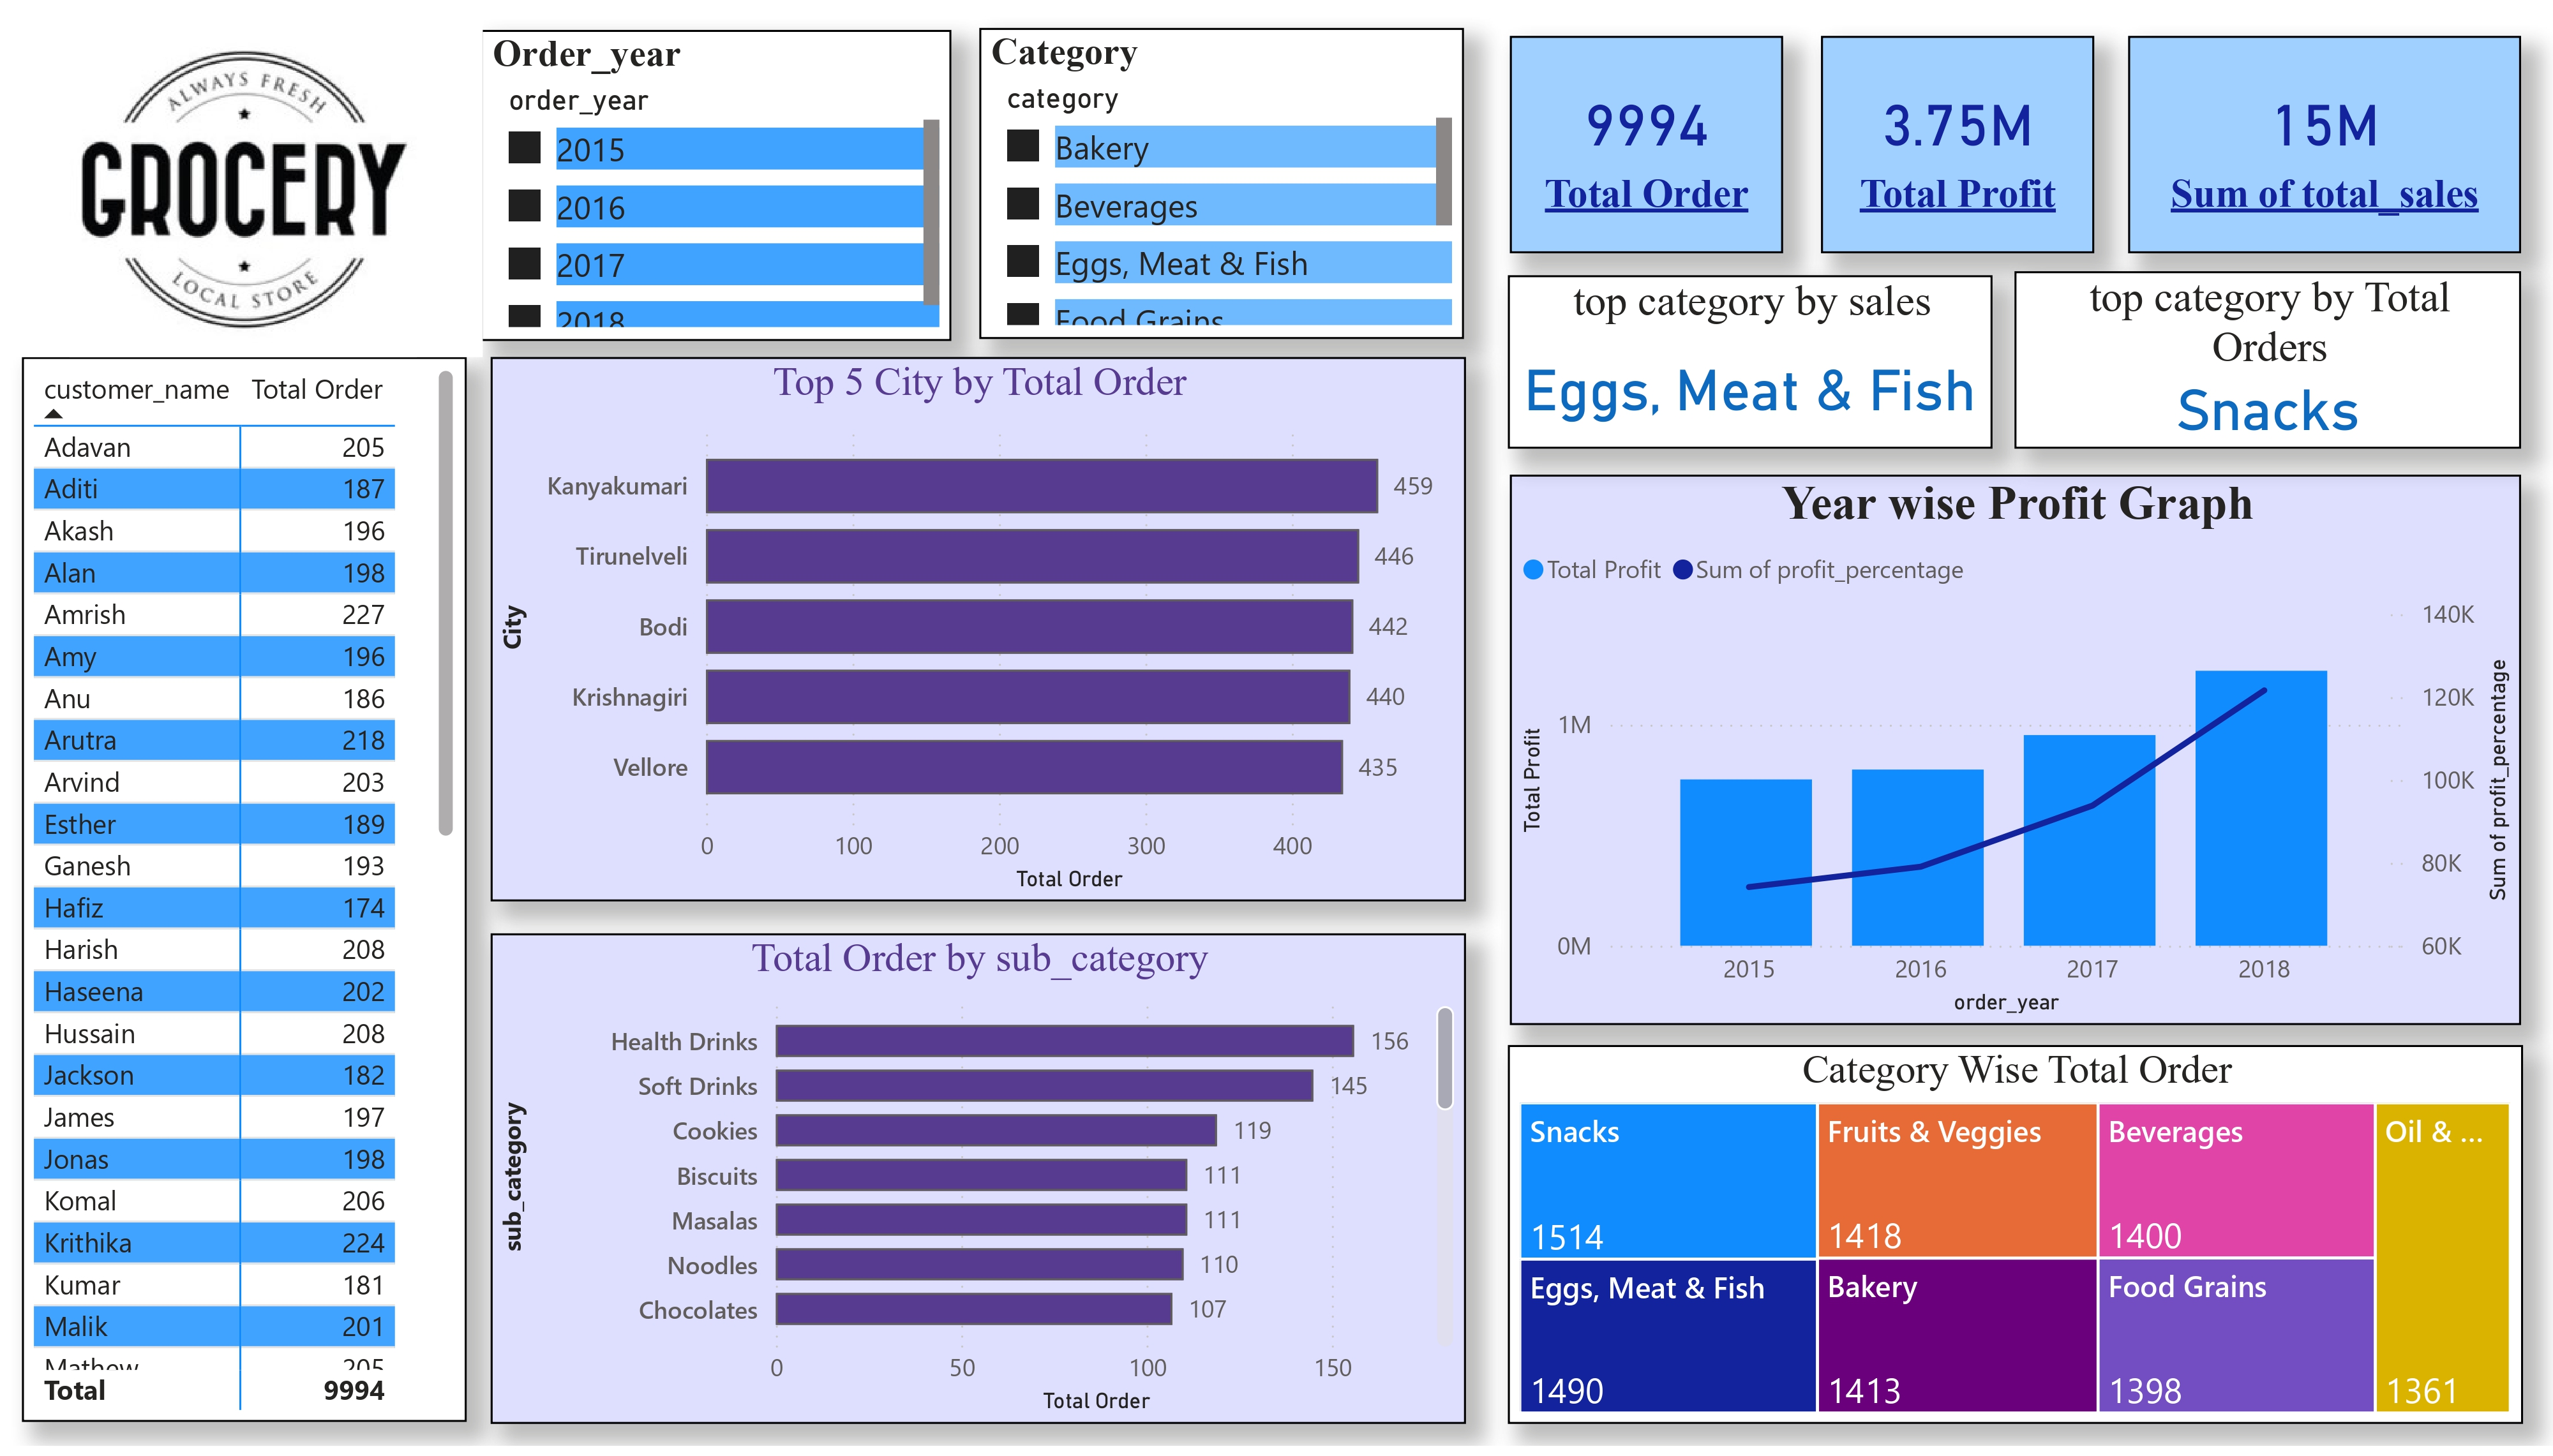

The dashboard page shown, as its layout file describes it:
{"tool":"powerbi","page":{"name":"Page 1","canvas":[1280,720],"ordinal":0},"visuals":[{"type":"card","fields":{"Values":["Measure.Total Profit"]},"box":[912.9,12.9,137.1,108.6],"z":0},{"type":"card","fields":{"Values":["Measure.Total Order"]},"box":[757.1,12.9,137.1,108.6],"z":1000},{"type":"lineClusteredColumnComboChart","title":"Year wise Profit Graph ","fields":{"Category":["OrderDetails Dim.order_year","OrderDetails Dim.order_month","OrderDetails Dim.order_day"],"Y":["Measure.Total Profit"],"Y2":["Sum(Sales_Fact_Dim.profit_percentage)"]},"box":[757.1,232.9,507.1,275.7],"z":2000},{"type":"card","fields":{"Values":["Sum(Sales_Fact_Dim.total_sales)"]},"box":[1067.1,12.9,197.1,108.6],"z":3000},{"type":"pivotTable","fields":{"Rows":["CustomerDetails Dim.customer_name"],"Values":["Measure.Total Order"]},"box":[11.4,174.3,222.9,534.3],"z":4000},{"type":"card","title":"top category by sales","fields":{"Values":["Min(Category Dim.category)"]},"box":[755.7,132.9,242.9,87.1],"z":5000},{"type":"card","title":"top category by Total Orders","fields":{"Values":["Min(Category Dim.category)"]},"box":[1010,131.4,254.3,88.6],"z":6000},{"type":"slicer","title":"Order_year","fields":{"Values":["OrderDetails Dim.order_year"]},"box":[241.4,10,235.7,155.7],"z":7000},{"type":"slicer","title":"Category","fields":{"Values":["Category Dim.category"]},"box":[491.4,8.6,242.9,155.7],"z":8000},{"type":"barChart","title":"Top 5 City by Total Order","fields":{"Category":["Location DIm.city"],"Y":["Measure.Total Order"]},"box":[245.7,174.3,488.6,272.9],"z":9000},{"type":"barChart","fields":{"Y":["Measure.Total Order"],"Category":["Sub_Categories DIm.sub_category"]},"box":[245.7,462.9,488.6,245.7],"z":10000},{"type":"treemap","title":"Category Wise Total Order","fields":{"Group":["Category Dim.category"],"Values":["Measure.Total Order"]},"box":[755.7,518.6,508.6,190],"z":10002},{"type":"image","box":[2.9,0,238.6,174.3],"z":10003}]}

Visuals, with their boxes in screenshot pixels (x1, y1, x2, y2), scaled from the page's 1280x720 canvas onto the 2553x1456 screenshot:
card - Measure.Total Profit: <region>1821, 26, 2094, 246</region>
card - Measure.Total Order: <region>1510, 26, 1783, 246</region>
"Year wise Profit Graph " lineClusteredColumnComboChart: <region>1510, 471, 2522, 1029</region>
card - Sum(Sales_Fact_Dim.total_sales): <region>2129, 26, 2522, 246</region>
pivotTable - CustomerDetails Dim.customer_name x Measure.Total Order: <region>23, 352, 467, 1433</region>
"top category by sales" card: <region>1508, 269, 1992, 445</region>
"top category by Total Orders" card: <region>2014, 265, 2522, 445</region>
"Order_year" slicer: <region>481, 20, 952, 335</region>
"Category" slicer: <region>980, 17, 1465, 332</region>
"Top 5 City by Total Order" barChart: <region>490, 352, 1465, 904</region>
barChart - Measure.Total Order x Sub_Categories DIm.sub_category: <region>490, 936, 1465, 1433</region>
"Category Wise Total Order" treemap: <region>1508, 1049, 2522, 1433</region>
image: <region>6, 0, 482, 352</region>
